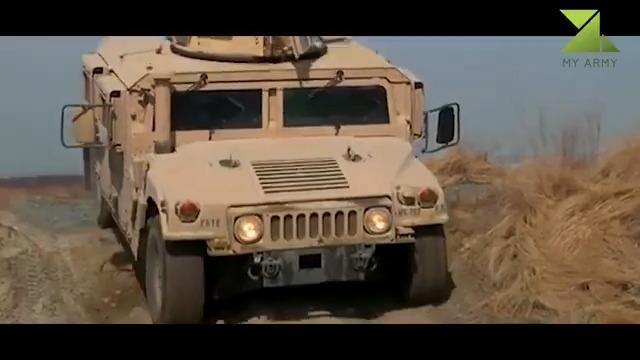MIL_HMMWV: (60, 34, 462, 328)
